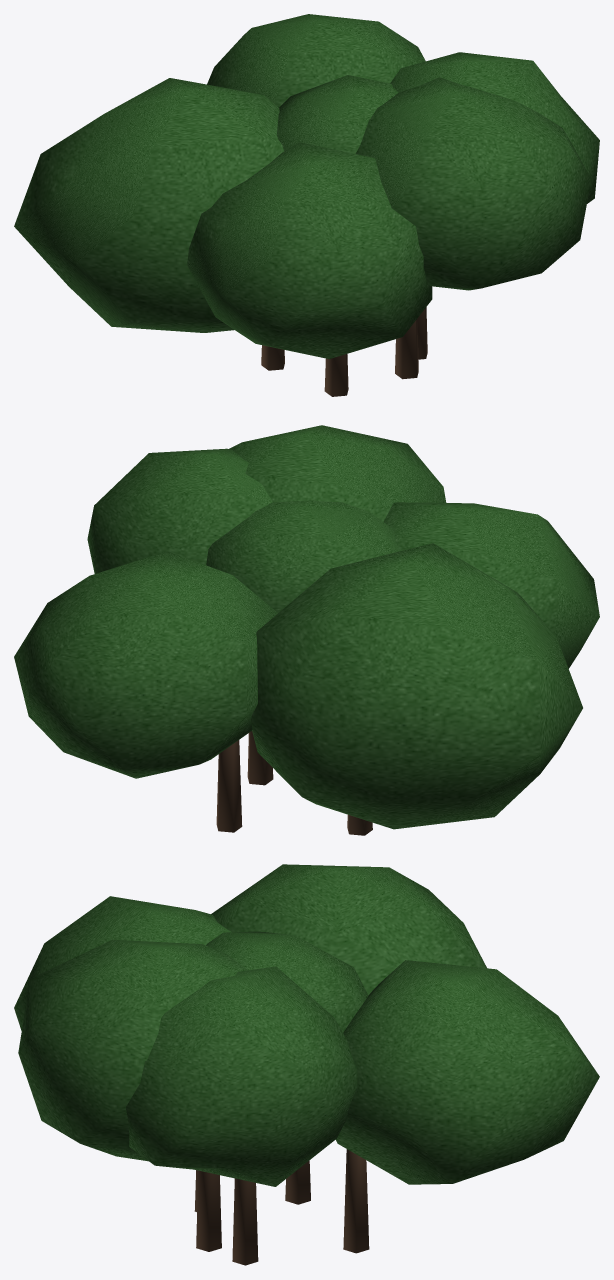
File: shrub_1.glb
3 views of the same model, one above another, from view 1: azimuth 30°, elevation 25°; view 2: azimuth 150°, elevation 25°; view 3: azimuth 270°, elevation 25° (orthographic). The views are drawn at different scales.
Parts seen in each view (by area): view 1: shrub_1; view 2: shrub_1; view 3: shrub_1.
Boxes of the visible parts, box(x1,y1,x2,y2) form: shrub_1: box(14, 14, 599, 396); shrub_1: box(14, 425, 599, 835); shrub_1: box(14, 864, 599, 1265).
Bounding box in the file's own units: 2.42 × 1.38 × 2.37.
Materials: 2 (2 with a texture image).
